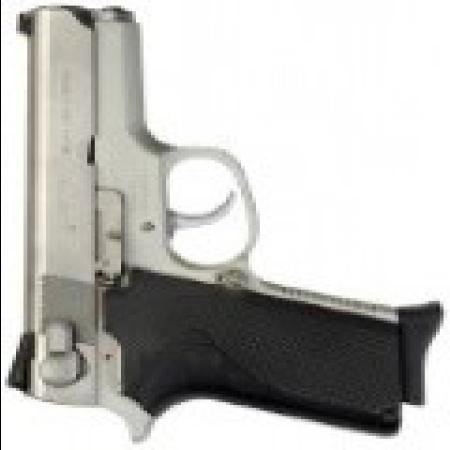Pistol: (7, 2, 435, 444)
